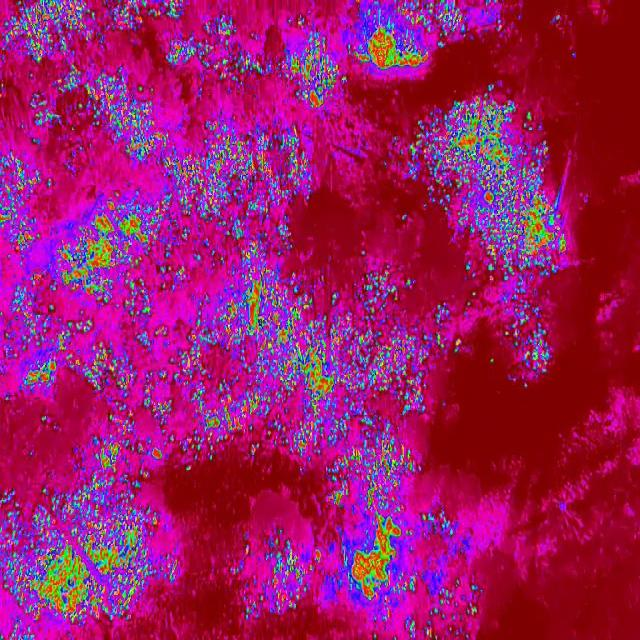fire: (142, 254, 461, 453), (405, 80, 574, 280), (0, 485, 177, 640), (158, 114, 317, 256), (167, 9, 342, 112), (0, 286, 142, 410), (45, 199, 188, 319), (28, 64, 167, 164), (0, 0, 181, 68), (338, 490, 412, 604), (233, 530, 310, 621), (492, 294, 561, 390), (402, 565, 484, 640), (80, 410, 158, 486), (354, 16, 436, 82), (0, 151, 43, 257), (360, 423, 426, 492), (392, 0, 470, 46), (417, 508, 460, 542), (329, 452, 362, 492), (374, 608, 401, 630), (466, 286, 479, 306), (552, 11, 566, 27)
